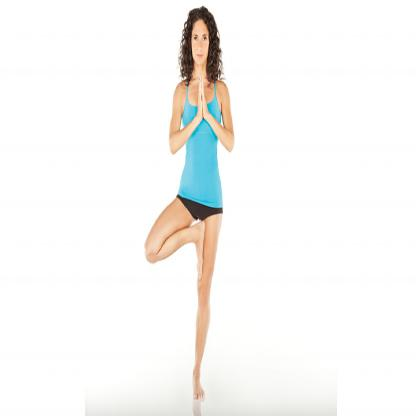tree: (140, 3, 242, 407)
